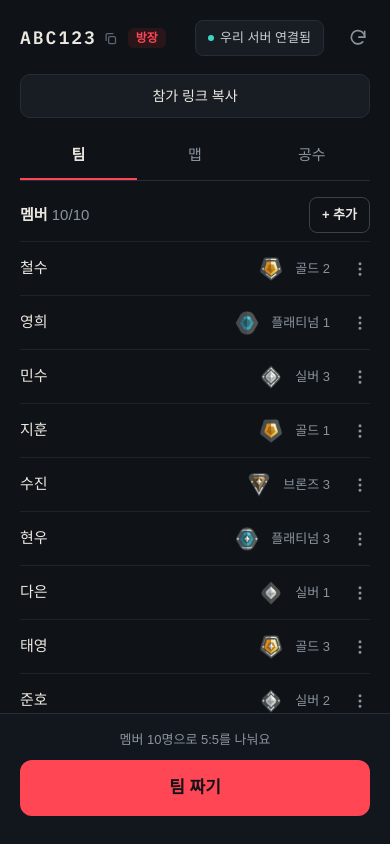
it: 디스코드 › 팀 · 맵 · 공수가 다 정해지면 all 로 한 번에 보낸다
Click the button "팀 짜기" at (195, 788), box [20, 760, 370, 816]
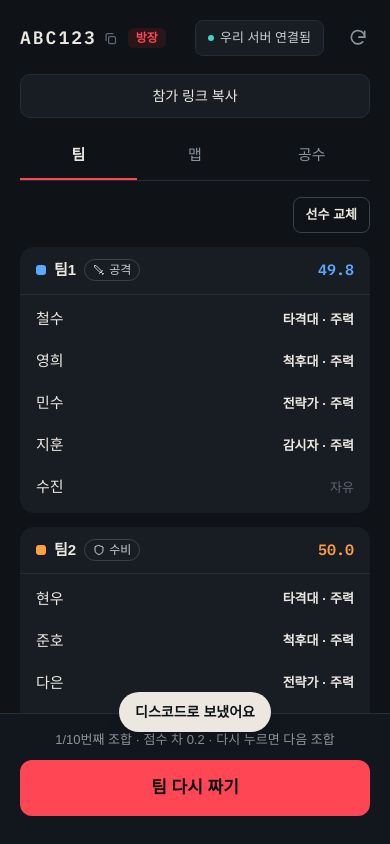
Check: the text "디스코드로 보냈어요" is shown, box [119, 692, 271, 732]
